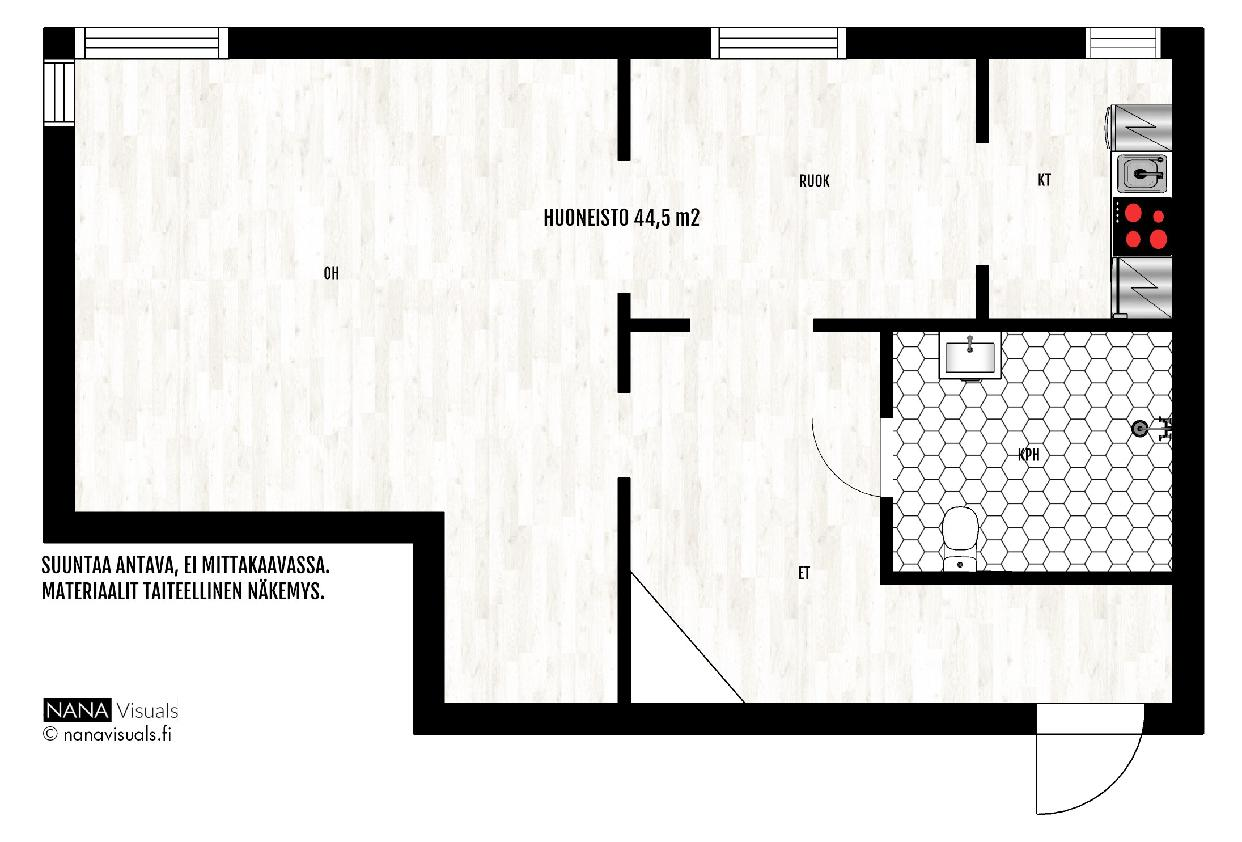door: (1036, 695, 1145, 820), (796, 401, 900, 505)
window: (71, 26, 228, 58), (708, 29, 844, 60), (39, 61, 78, 130), (1082, 26, 1160, 55)
zone: (77, 58, 615, 706), (631, 333, 1172, 706), (627, 59, 977, 317), (892, 329, 1169, 574), (979, 54, 1175, 325)
